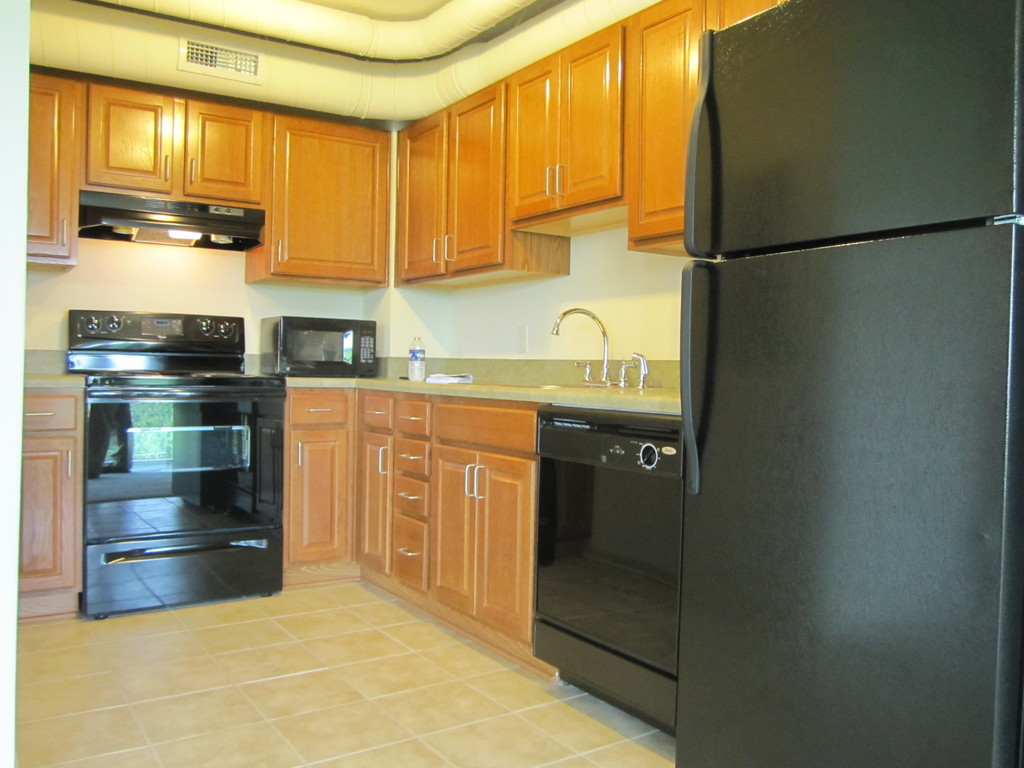cabinet door: (273, 122, 388, 269), (630, 38, 694, 226), (559, 61, 625, 204), (86, 91, 173, 186), (446, 117, 502, 263), (179, 106, 266, 197), (481, 460, 531, 615), (18, 444, 71, 583), (29, 86, 70, 255), (399, 127, 445, 273), (294, 435, 345, 558), (507, 94, 558, 210), (435, 452, 471, 598), (366, 442, 390, 563), (294, 395, 347, 425), (398, 481, 430, 522), (397, 523, 422, 574), (17, 399, 67, 421), (398, 447, 426, 479), (369, 400, 393, 423), (402, 410, 425, 430)
handle: (680, 271, 708, 478), (684, 105, 706, 246), (455, 463, 478, 506), (470, 458, 489, 501), (551, 161, 569, 195), (183, 155, 201, 189), (395, 544, 428, 562), (61, 446, 78, 479), (23, 410, 60, 423), (377, 444, 390, 480), (59, 209, 72, 244), (162, 148, 173, 189), (294, 437, 308, 466), (308, 404, 339, 416), (402, 415, 422, 432), (542, 166, 554, 194), (399, 493, 423, 507), (274, 243, 287, 265), (431, 243, 442, 267), (444, 236, 455, 259), (399, 457, 423, 467), (370, 407, 391, 418)
refrigerator door: (700, 253, 1024, 763), (707, 44, 1023, 217)
